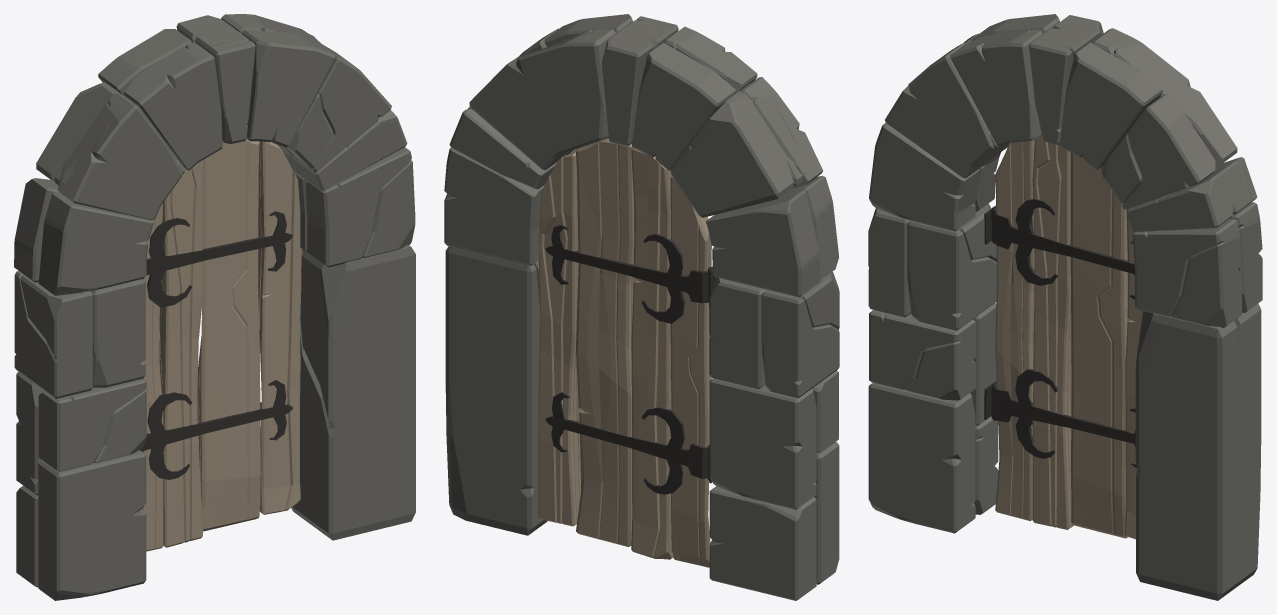
The model's file is door.fbx.
3 renders of one model, left to right at view 1: azimuth 30°, elevation 25°; view 2: azimuth 150°, elevation 25°; view 3: azimuth 330°, elevation 25°, orthographic.
Parts seen in each view (by area): view 1: wall_door, door; view 2: wall_door, door; view 3: wall_door, door.
Boxes of the visible parts, <box> form: wall_door: <box>14,14,415,600</box>; door: <box>140,139,302,551</box>; wall_door: <box>444,14,839,600</box>; door: <box>538,138,712,567</box>; wall_door: <box>868,14,1262,600</box>; door: <box>991,136,1142,539</box>.
Size of the model in its own units: 21.1 by 28.78 by 4.43.
